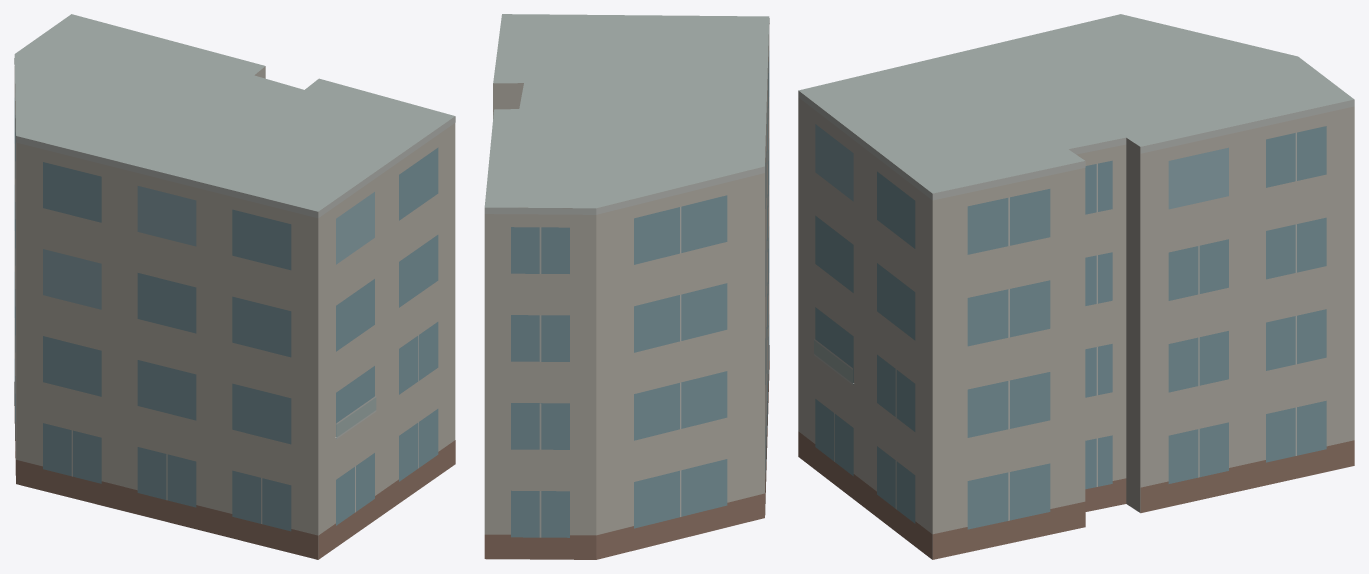
Rendered from survey-upis-32746787.glb.
The picture shows the model from 3 angles, left to right: view 1: azimuth 30°, elevation 25°; view 2: azimuth 150°, elevation 25°; view 3: azimuth 270°, elevation 25°; orthographic projection. The views are drawn at different scales.
Parts seen in each view (by area): view 1: survey-upis-32746787.tmp; view 2: survey-upis-32746787.tmp; view 3: survey-upis-32746787.tmp.
Part boxes in pixels (x1=…): survey-upis-32746787.tmp: x1=14, y1=14, x2=455, y2=559; survey-upis-32746787.tmp: x1=484, y1=14, x2=769, y2=559; survey-upis-32746787.tmp: x1=798, y1=14, x2=1354, y2=559.
Size of the model in its own units: 13.63 by 12.95 by 17.83.
